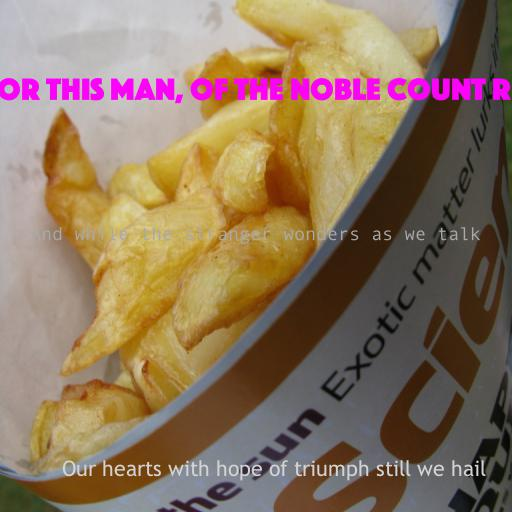Andale Mono: (29, 227, 481, 244)
Phosphate: (0, 78, 512, 104)
Trebuchet MS: (62, 460, 486, 481)
